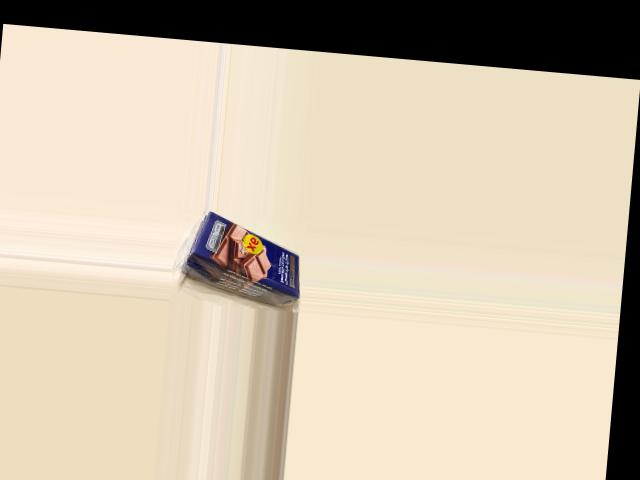chocolate: (187, 208, 306, 305)
